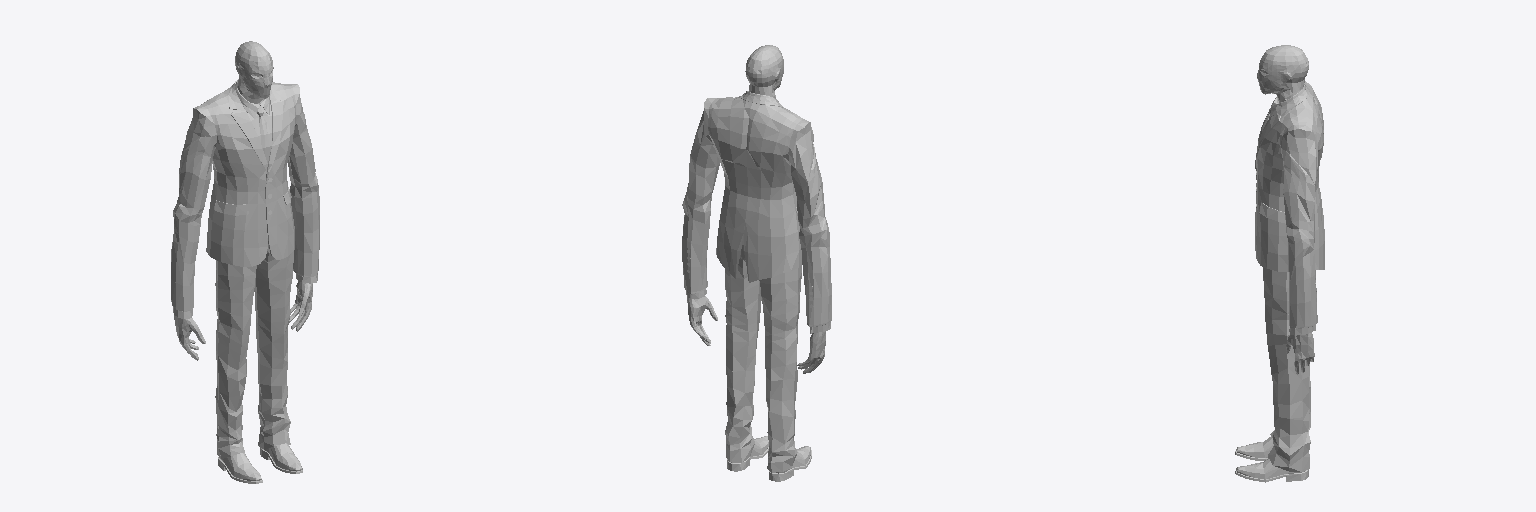
Rendered from SlenderMan_Prototype.obj.
The picture shows the model from 3 angles: view 1: azimuth 30°, elevation 25°; view 2: azimuth 150°, elevation 25°; view 3: azimuth 270°, elevation 25°; orthographic projection.
Visible parts, largest first — view 1: Slender_Rig_v001:SlenderManMesh_0; view 2: Slender_Rig_v001:SlenderManMesh_0; view 3: Slender_Rig_v001:SlenderManMesh_0.
Part boxes in pixels (bbox=[...]): Slender_Rig_v001:SlenderManMesh_0: bbox=[171, 41, 319, 483]; Slender_Rig_v001:SlenderManMesh_0: bbox=[682, 45, 831, 481]; Slender_Rig_v001:SlenderManMesh_0: bbox=[1235, 45, 1324, 482].
Bounding box in the file's own units: 2.21 × 6.08 × 1.18.